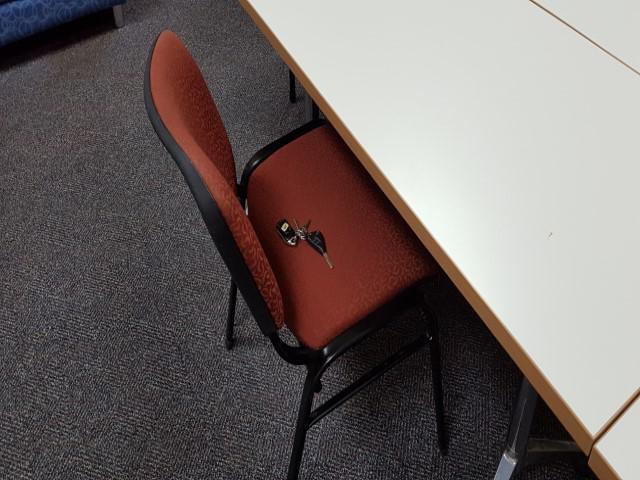key: (307, 231, 334, 268)
